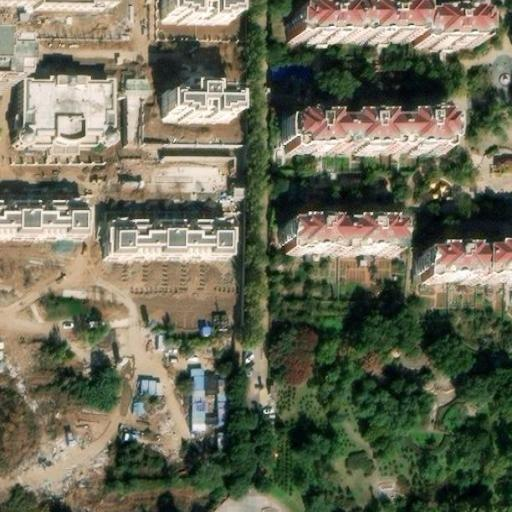building: (291, 17, 484, 54), (285, 111, 455, 152), (18, 78, 111, 144), (104, 216, 235, 256), (288, 217, 403, 253), (417, 244, 512, 282), (0, 201, 89, 239), (165, 82, 237, 117), (121, 73, 148, 145), (165, 0, 237, 20), (189, 368, 205, 424), (137, 375, 160, 394), (214, 428, 230, 450)
